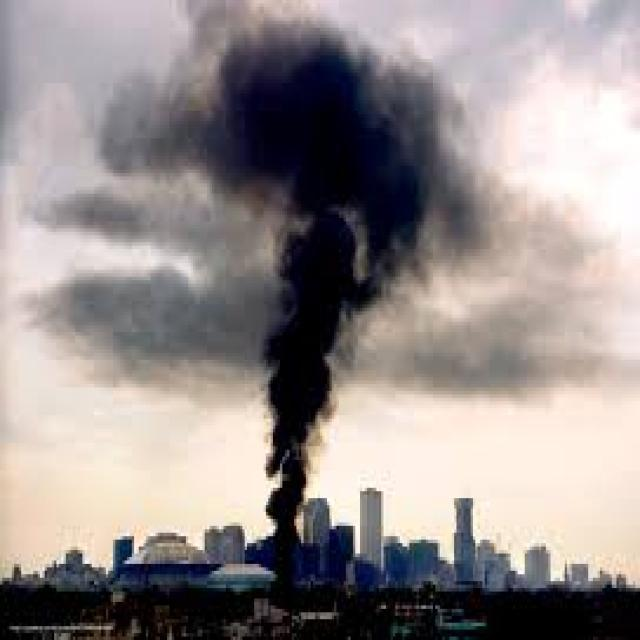Smoke: (101, 0, 482, 557)
